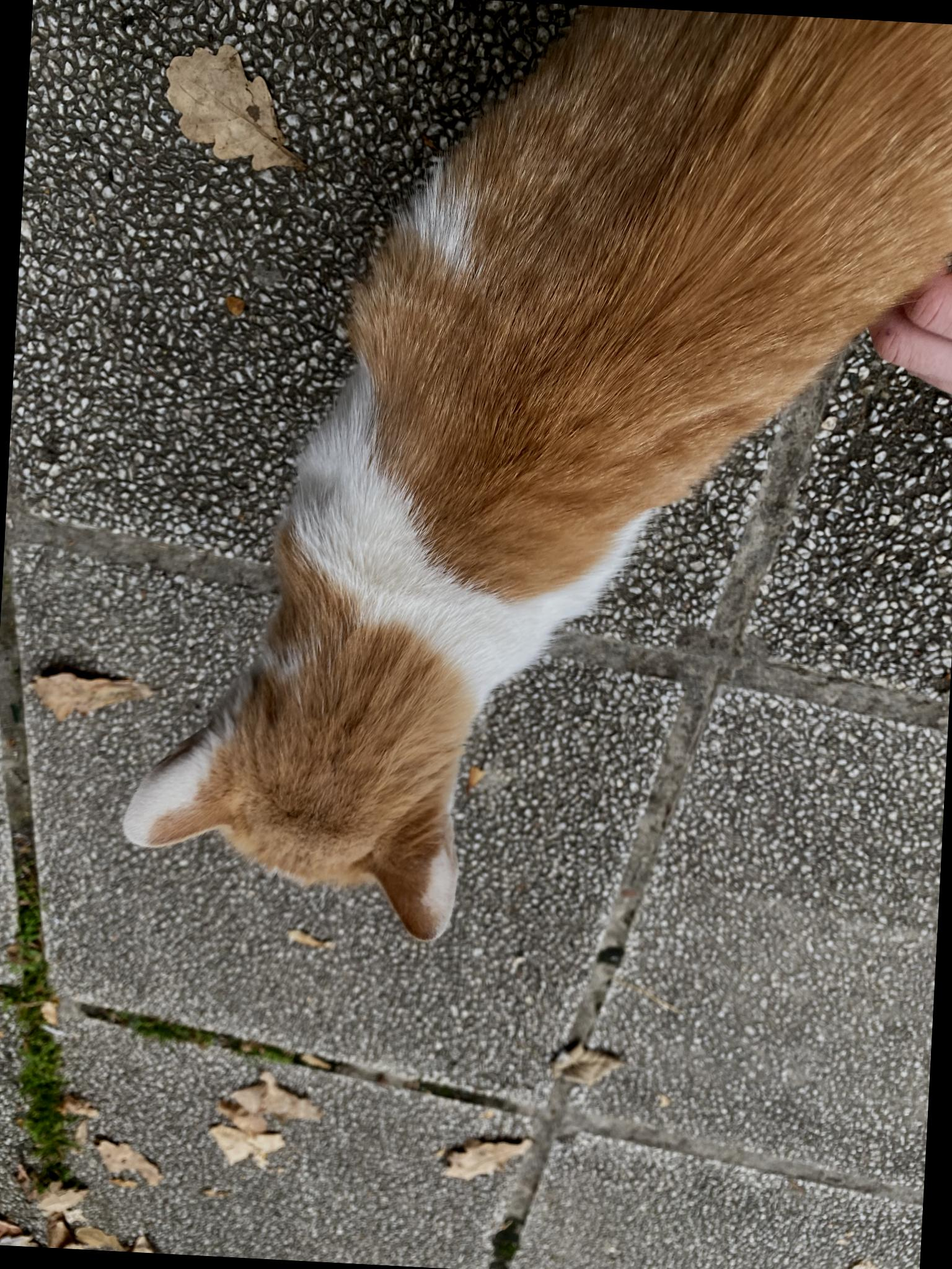macka: (116, 0, 952, 970)
